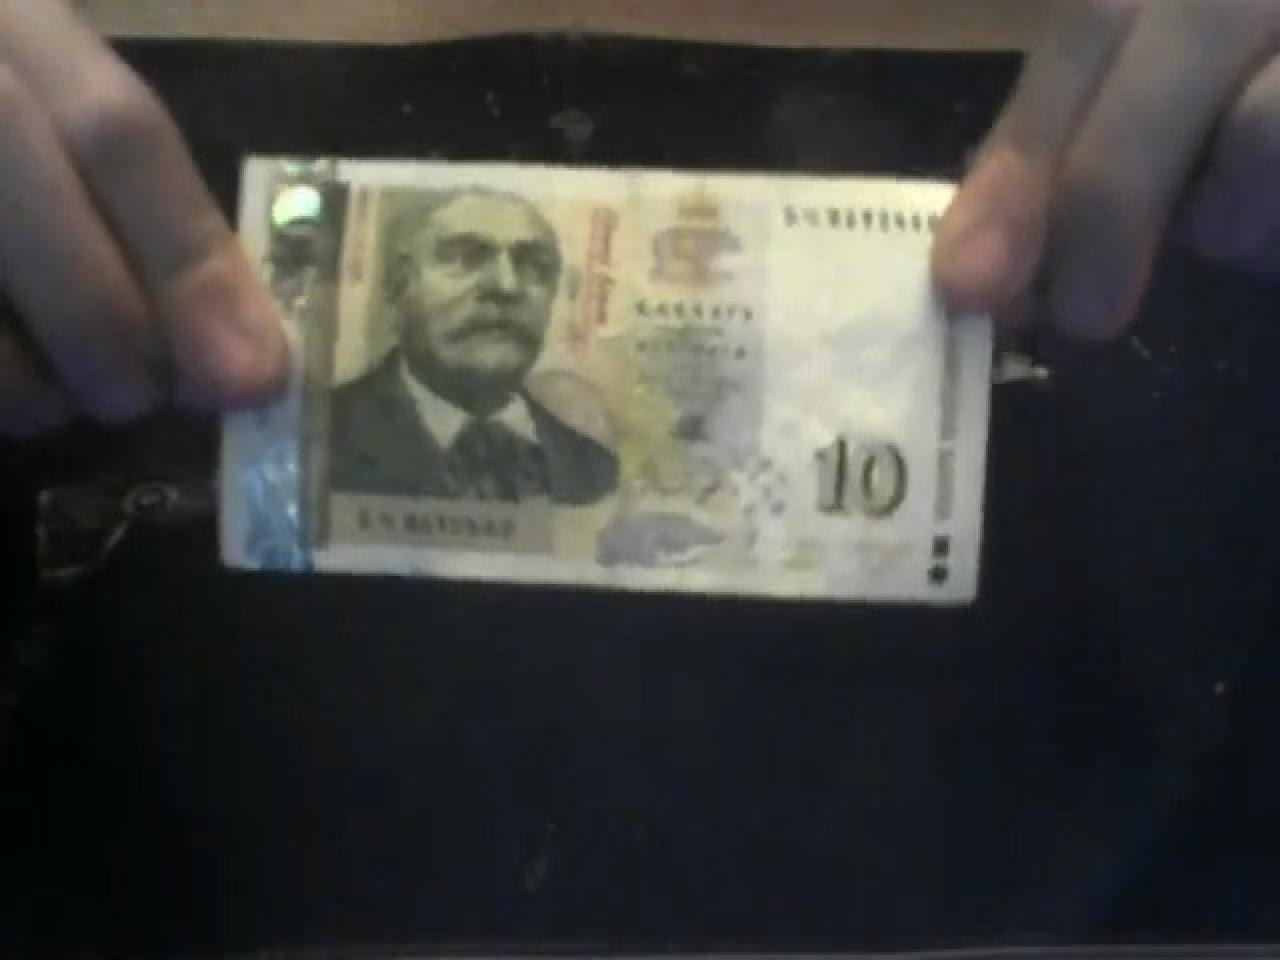10leva: (218, 86, 1000, 616)
